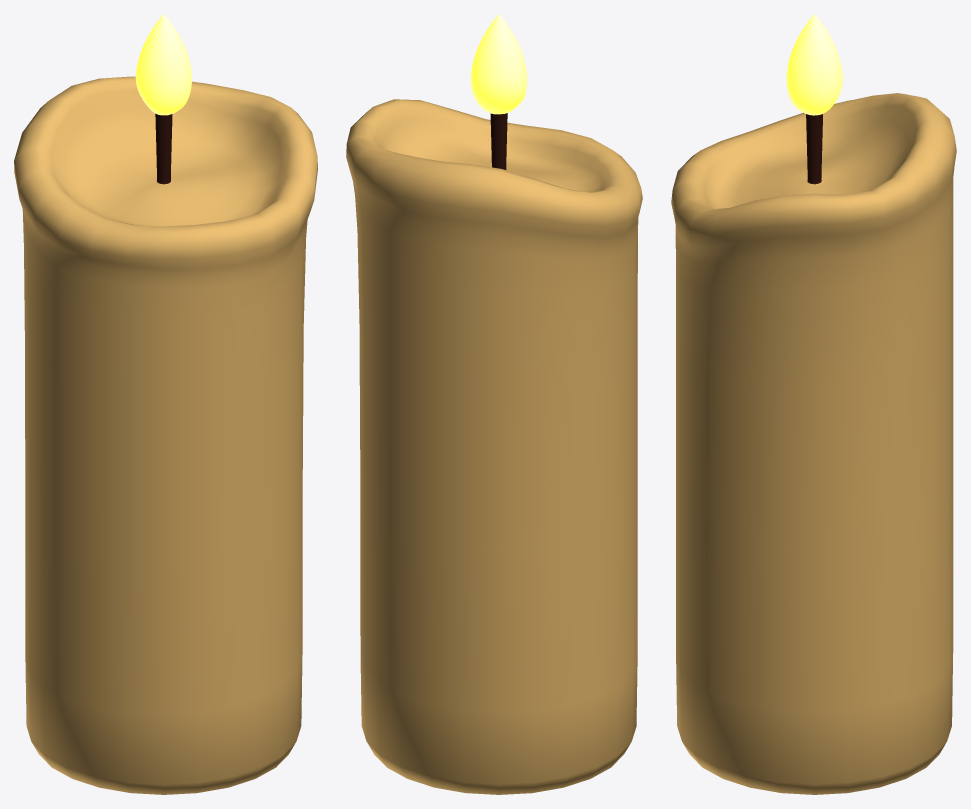
The model's file is Candle_C.fbx.
The picture shows the model from 3 angles, left to right: view 1: azimuth 30°, elevation 25°; view 2: azimuth 150°, elevation 25°; view 3: azimuth 270°, elevation 25°; orthographic projection.
Visible parts, largest first — view 1: Candle_C; view 2: Candle_C; view 3: Candle_C.
Boxes of the visible parts, bbox=[...] form: Candle_C: bbox=[14, 14, 317, 794]; Candle_C: bbox=[346, 14, 642, 794]; Candle_C: bbox=[671, 14, 956, 794].
Bounding box in the file's own units: 53.72 × 50.59 × 142.
